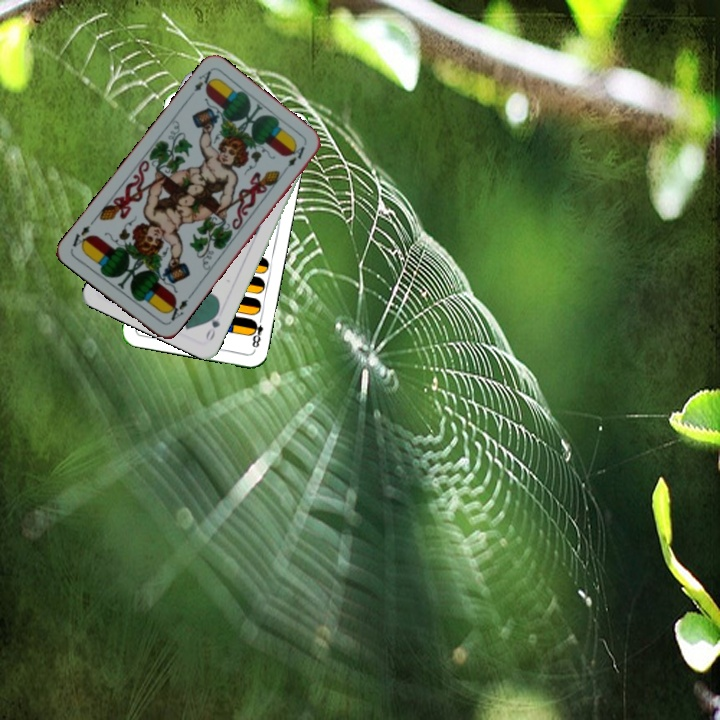E8: (247, 313, 266, 353)
EA: (185, 66, 218, 101), (162, 295, 190, 326)
GO: (201, 304, 223, 343)
